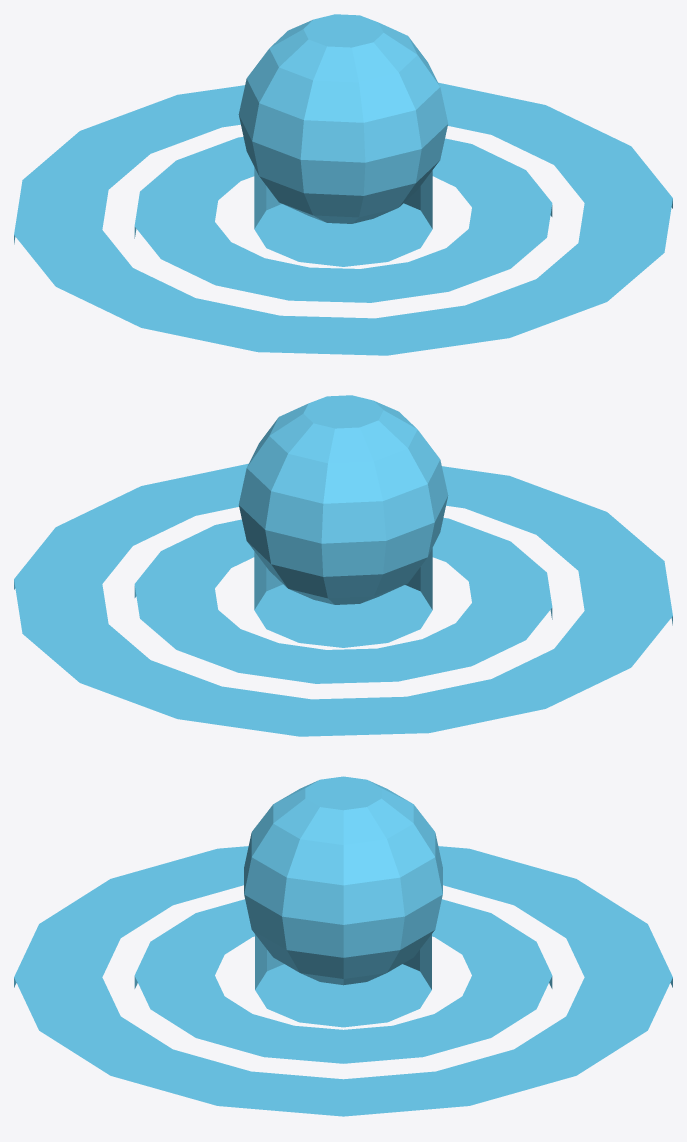
Rendered from spell_water_splash.glb.
3 views of the same model, one above another, from view 1: azimuth 30°, elevation 25°; view 2: azimuth 150°, elevation 25°; view 3: azimuth 270°, elevation 25° (orthographic).
Parts seen in each view (by area): view 1: SpellWaterSplash_Node; view 2: SpellWaterSplash_Node; view 3: SpellWaterSplash_Node.
Part boxes in pixels (<box>): SpellWaterSplash_Node: <box>14,14,672,355</box>; SpellWaterSplash_Node: <box>14,395,672,736</box>; SpellWaterSplash_Node: <box>14,776,672,1116</box>.
Size of the model in its own units: 1.64 by 0.56 by 1.64.
